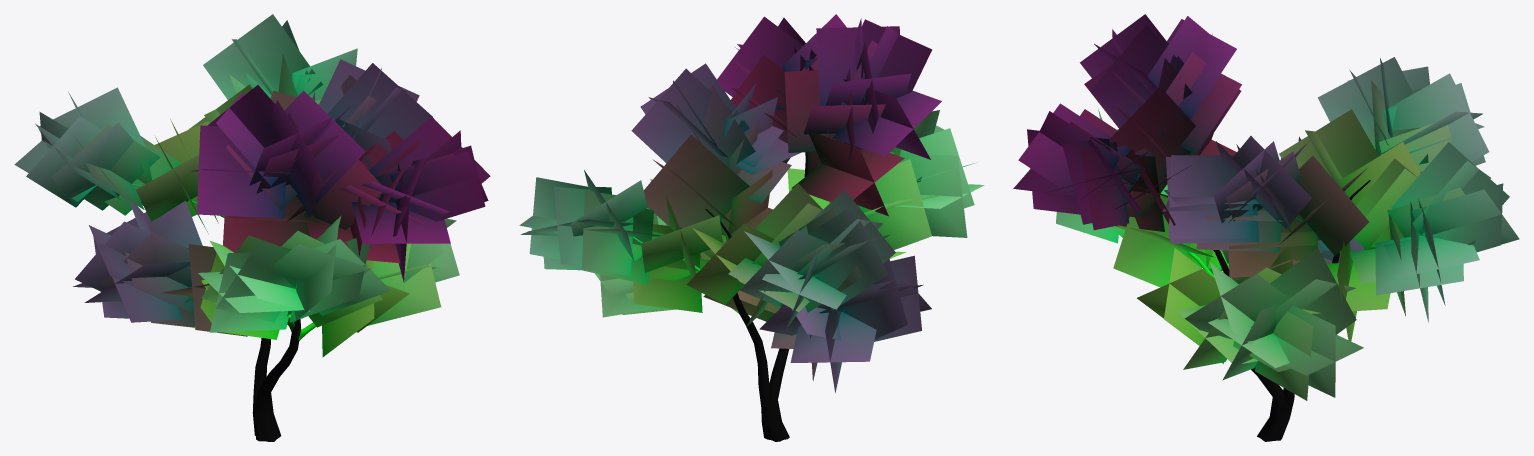
File: M_P3_Tree_4.fbx
3 renders of one model, left to right at view 1: azimuth 30°, elevation 25°; view 2: azimuth 150°, elevation 25°; view 3: azimuth 270°, elevation 25°, orthographic. The views are drawn at different scales.
Parts seen in each view (by area): view 1: Tree_4; view 2: Tree_4; view 3: Tree_4.
Part boxes in pixels (x1,y1,x2,y2): Tree_4: (14,14,490,441); Tree_4: (519,14,984,441); Tree_4: (1013,14,1519,441).
Bounding box in the file's own units: 527 × 554 × 637.
